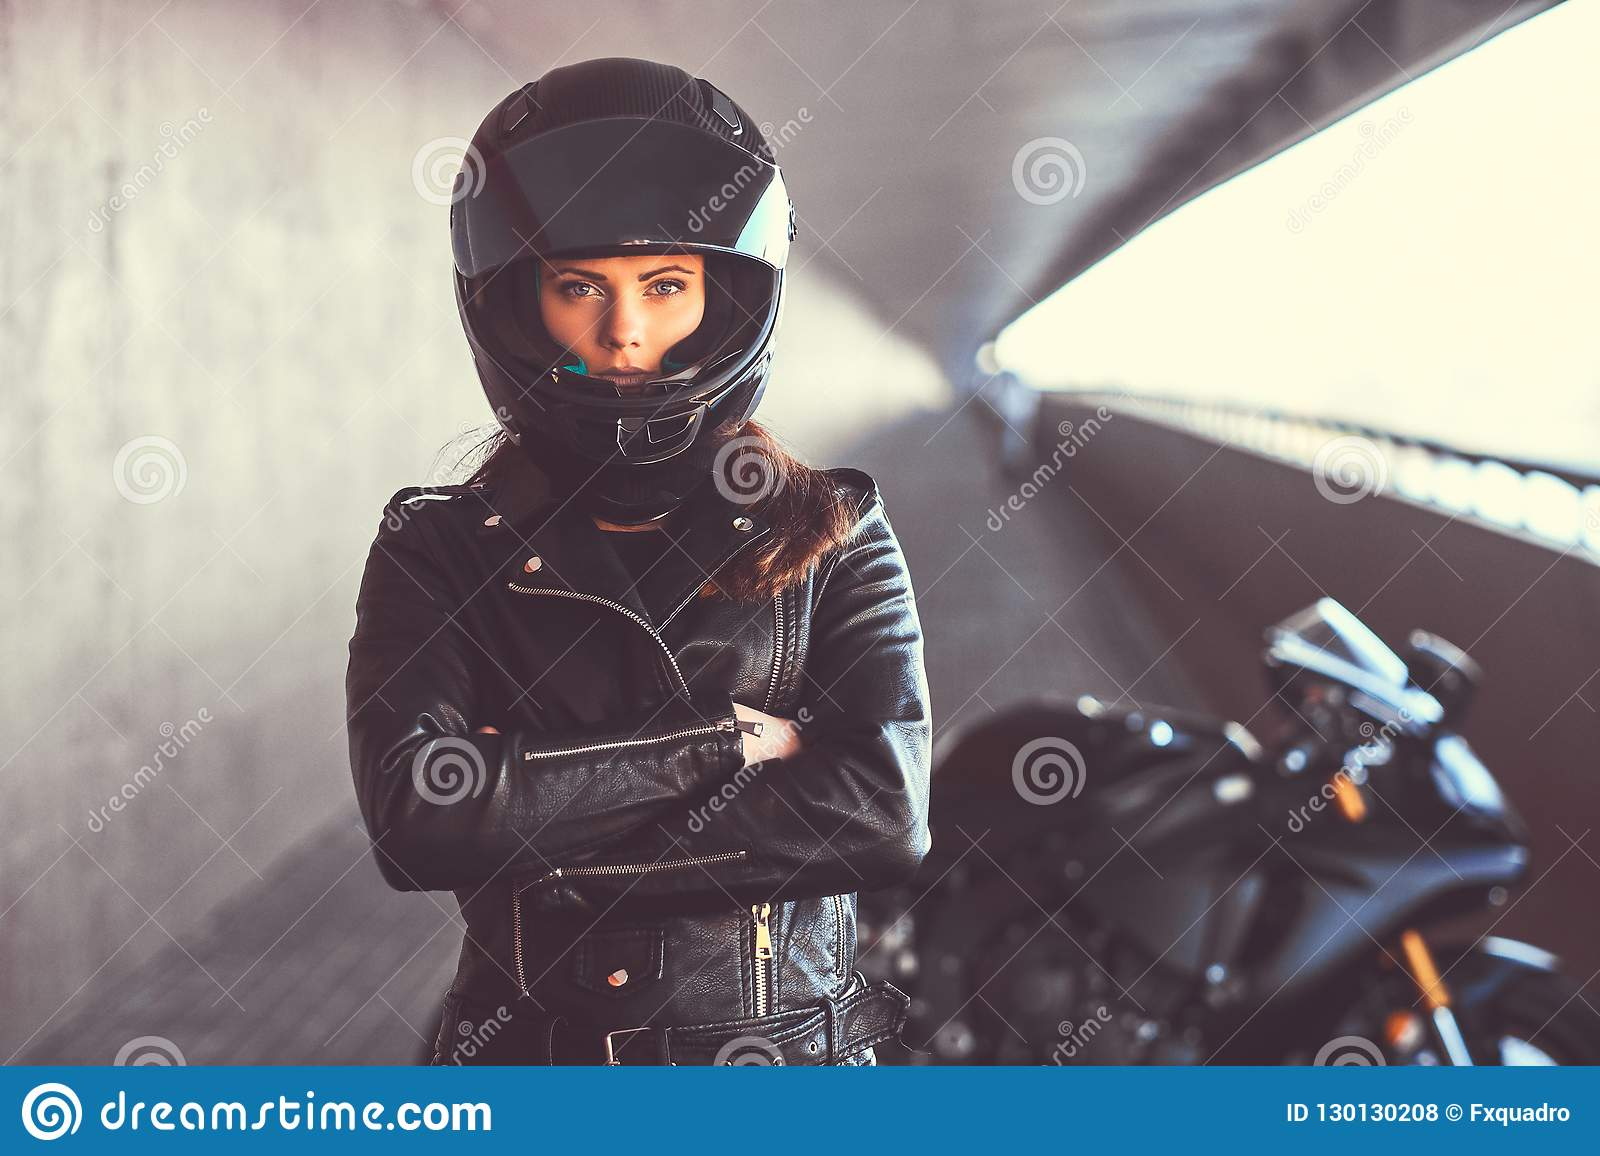helmet: (432, 75, 791, 440)
